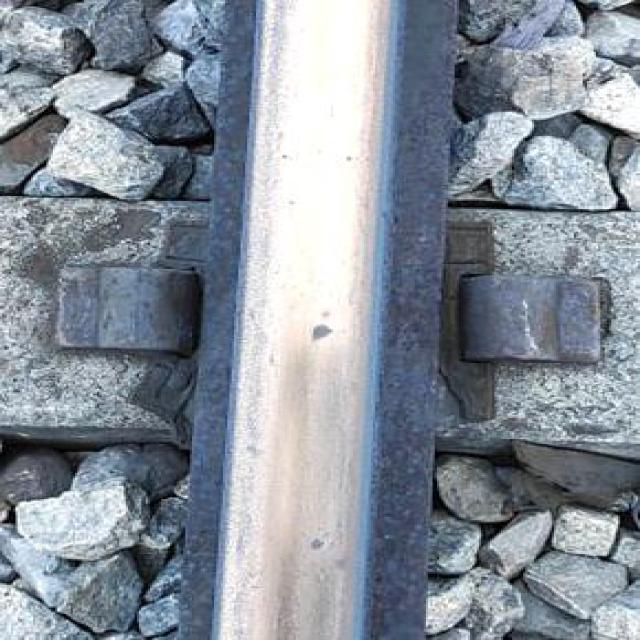Missing Fastener: (451, 230, 618, 411), (31, 245, 203, 368)
